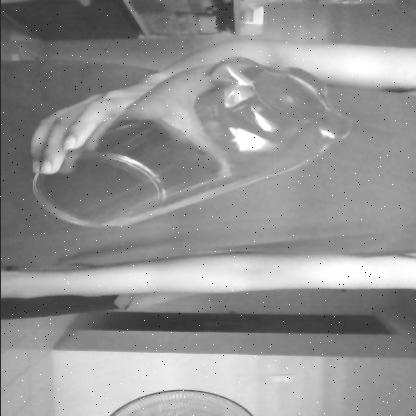Plastic Bottle: (21, 60, 354, 231)
